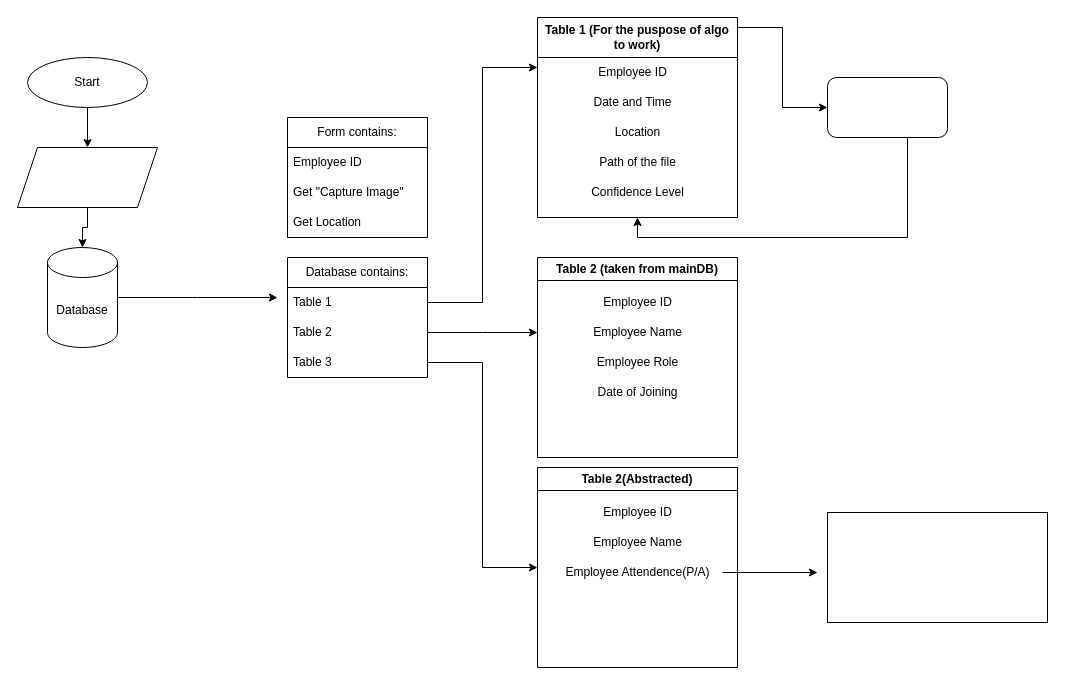
Some shapes in this 1065 by 685 pixel diagram are drawn without their labels. The centre of each missing label's shape, as x and y in pixels:
Can be Migrated to the Excel file . Read and writable. And presented to the User: (x=937, y=567)
Display "Attendence Form": (x=87, y=177)
Facial Matching Algorithm: (x=887, y=107)
